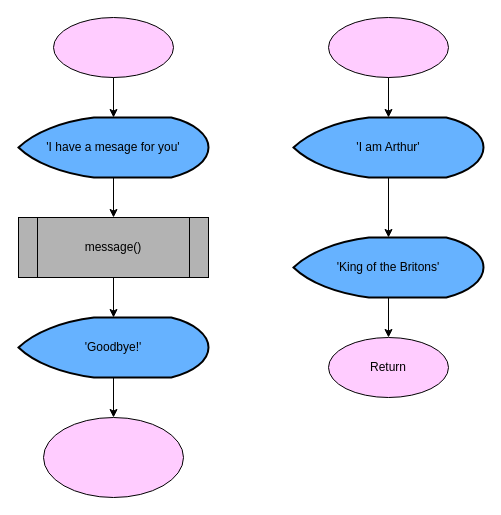
Image size: 501x515. Some labels were removed from this diagram. Here are the shapes that lost their labels. From the top down, the box of each, then its label:
(52, 16, 174, 78): Strart
(328, 16, 448, 78): mesage()
(42, 416, 184, 498): Stop
